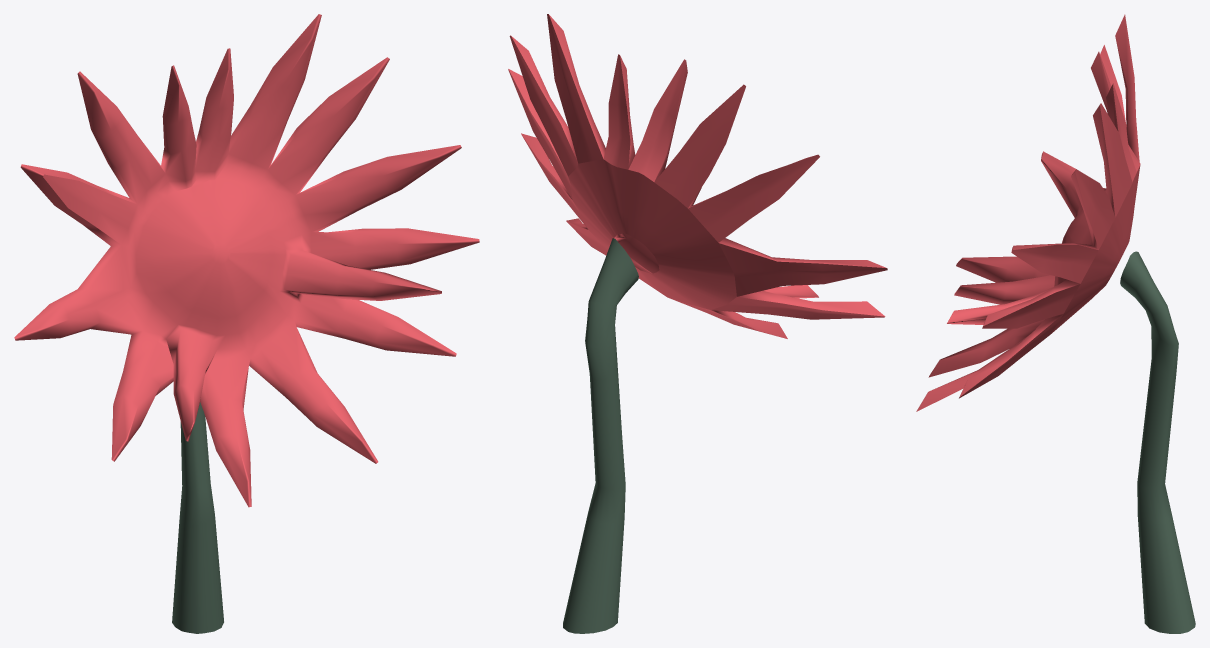
The model's file is FlowerLargeMiddle.fbx.
3 views of the same model, side by side, from view 1: azimuth 30°, elevation 25°; view 2: azimuth 150°, elevation 25°; view 3: azimuth 270°, elevation 25° (orthographic). The views are drawn at different scales.
Visible parts, largest first — view 1: FlowerLrgeMiddle, SkinnyStem; view 2: FlowerLrgeMiddle, SkinnyStem; view 3: FlowerLrgeMiddle, SkinnyStem.
Boxes of the visible parts, x1,y1,x2,y2 form: FlowerLrgeMiddle: (14, 14, 479, 507); SkinnyStem: (172, 402, 223, 633); FlowerLrgeMiddle: (508, 14, 887, 338); SkinnyStem: (563, 238, 638, 633); FlowerLrgeMiddle: (916, 14, 1140, 411); SkinnyStem: (1120, 251, 1195, 633).
Bounding box in the file's own units: 7.71 × 10.52 × 4.78.
